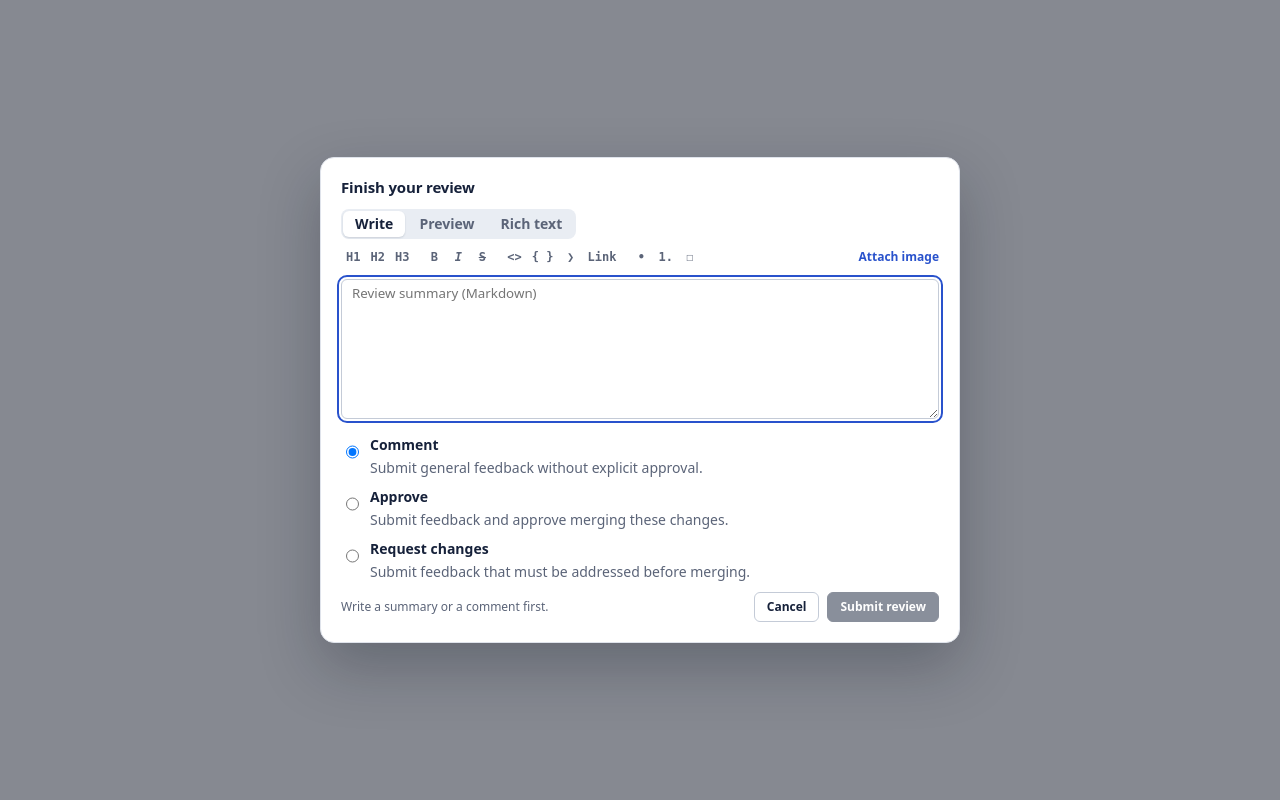
Test: SubmitReviewDialog › needs a summary to request changes, and to comment without pending comments
Check: the button "Submit review" is disabled, box [828,592,939,622]
Click the radio button labelled "Request changes". click: (352, 556)
box: [346,541,359,571]
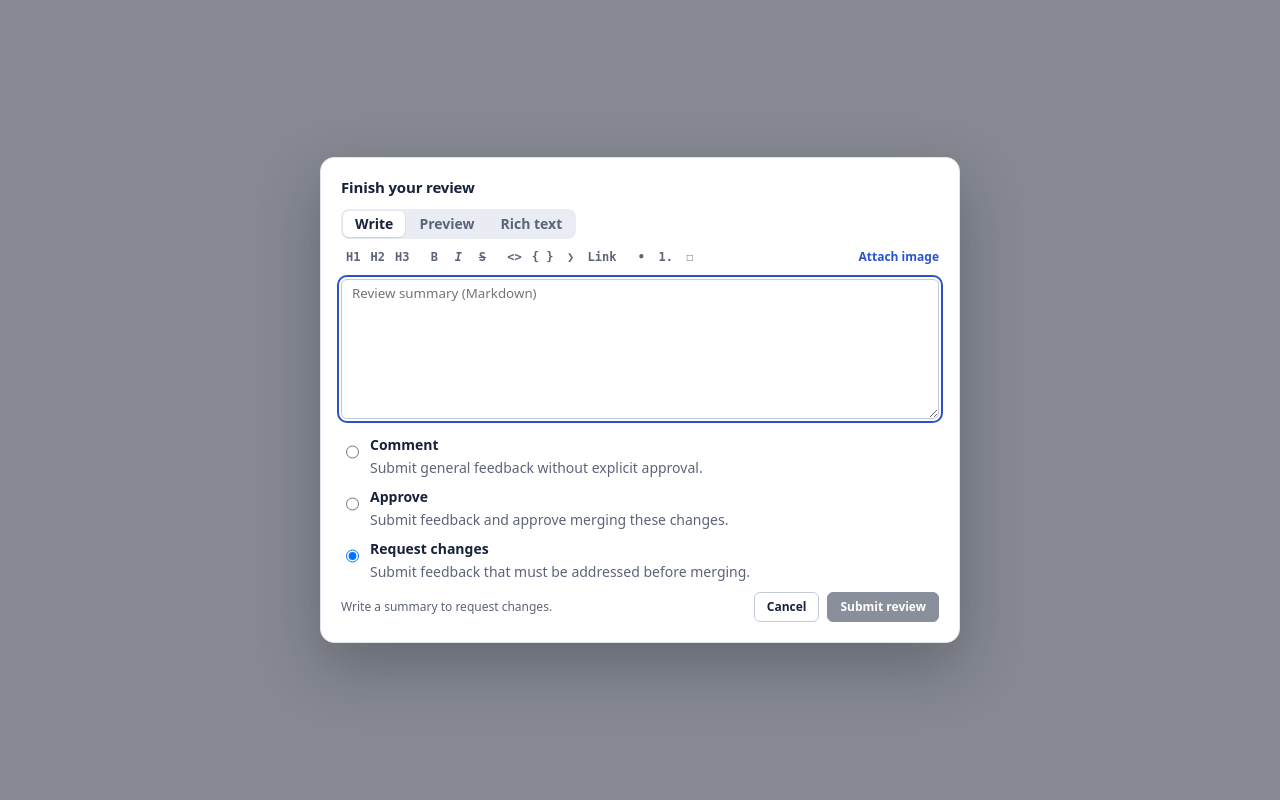
Check: the button "Submit review" is disabled, box [828,592,939,622]
Check: the text "Write a summary to request changes." is shown, box [341,598,552,616]
Type "Please rename it" into the text box labelled "Review summary (Markdown)". click: (640, 349)
box: [341,279,939,419]
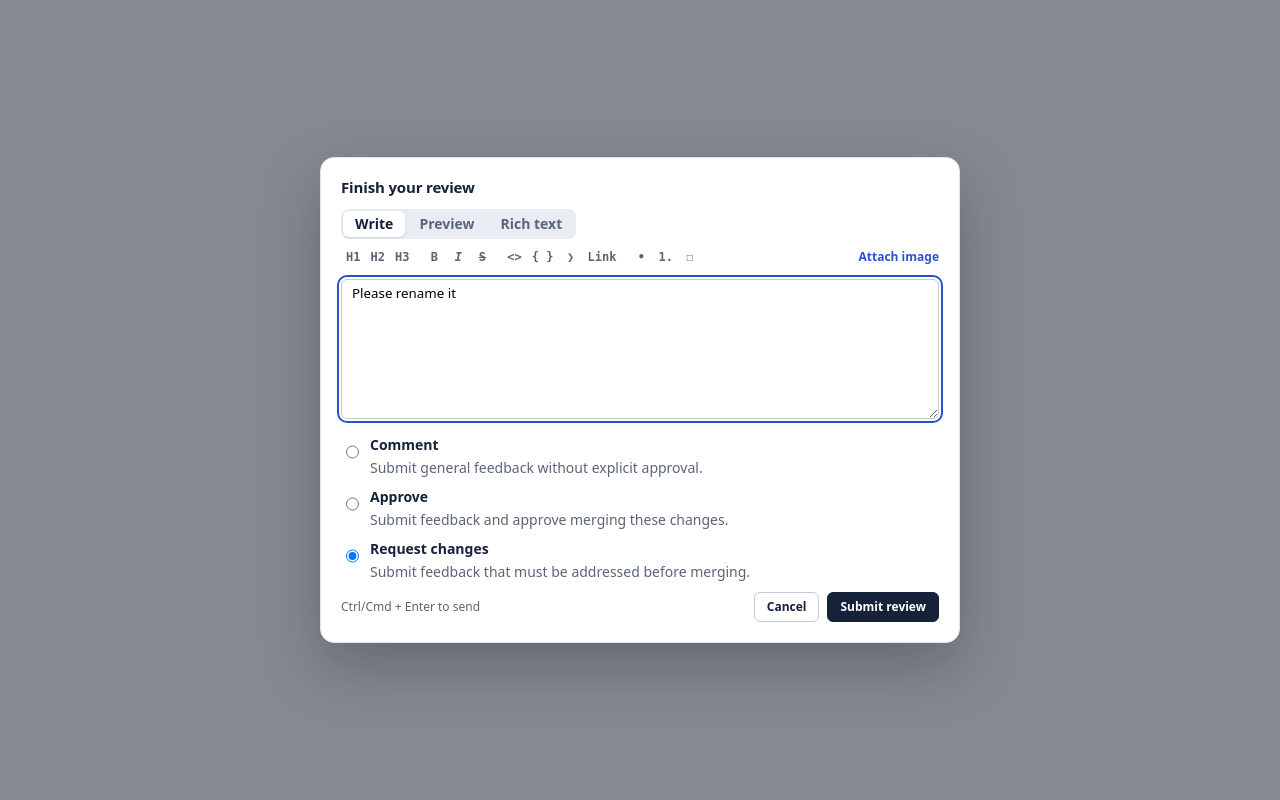
Check: the button "Submit review" is enabled, box [828,592,939,622]
